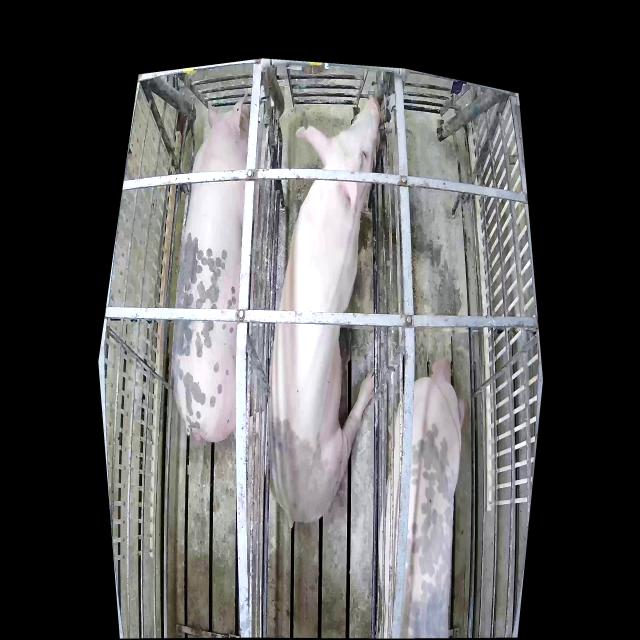pig: (269, 97, 386, 520), (174, 91, 250, 441), (379, 356, 471, 637)
